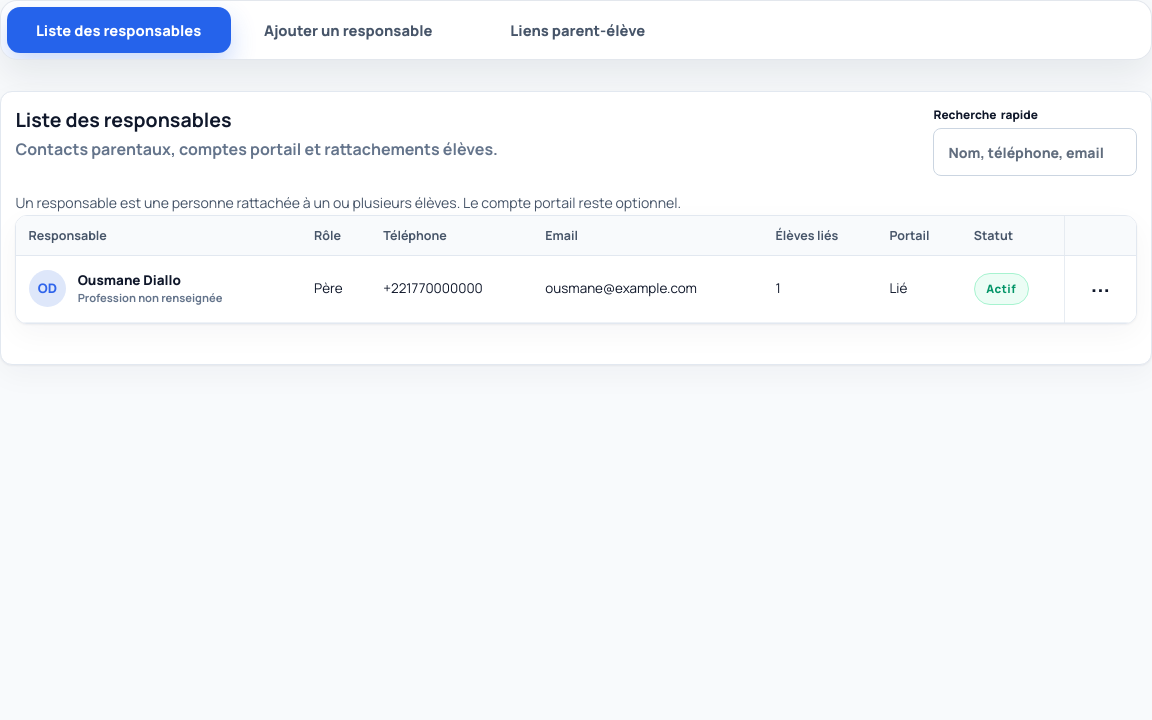
Scenario: ParentsScreen › structure le formulaire responsable avec les champs obligatoires et le portail optionnel
The image size is (1152, 720).
Click the tab "Ajouter un responsable": {"x": 348, "y": 30} [236, 7, 460, 53]
(page scrolled)
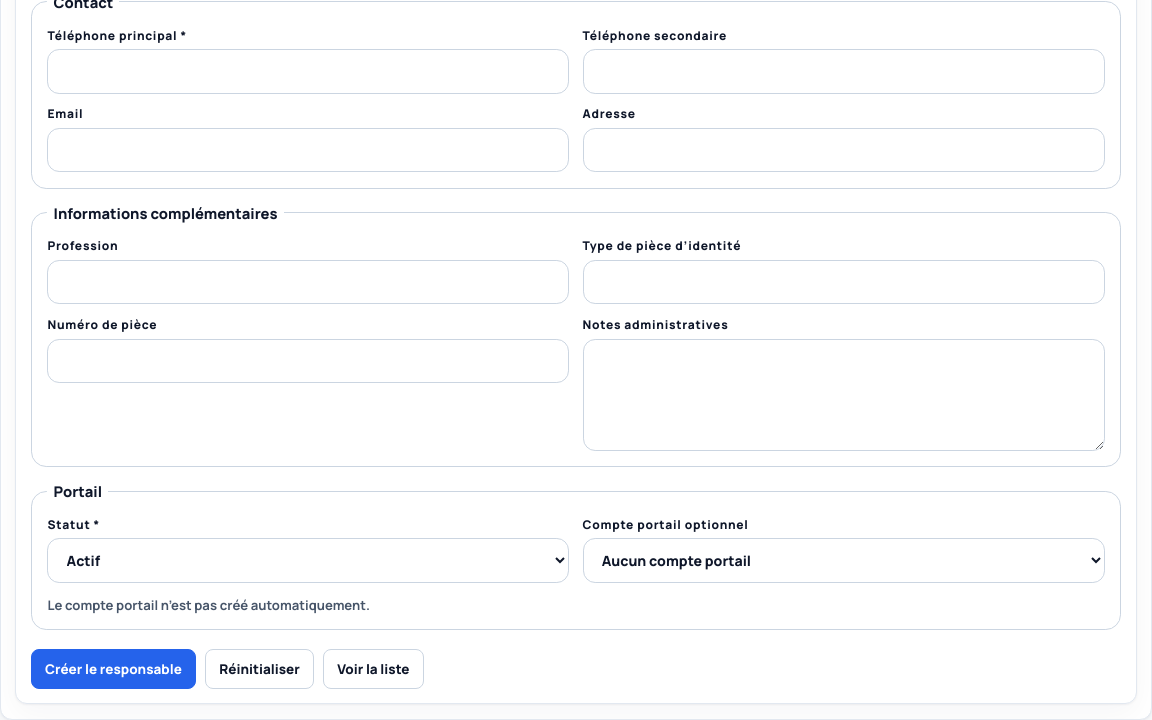
Result: the field labelled "Téléphone principal *" is shown at [48, 49, 570, 94]
Result: the dropdown labelled "Statut *" is shown at [48, 538, 570, 583]
Result: the dropdown labelled "Compte portail optionnel" is shown at [582, 538, 1104, 583]
